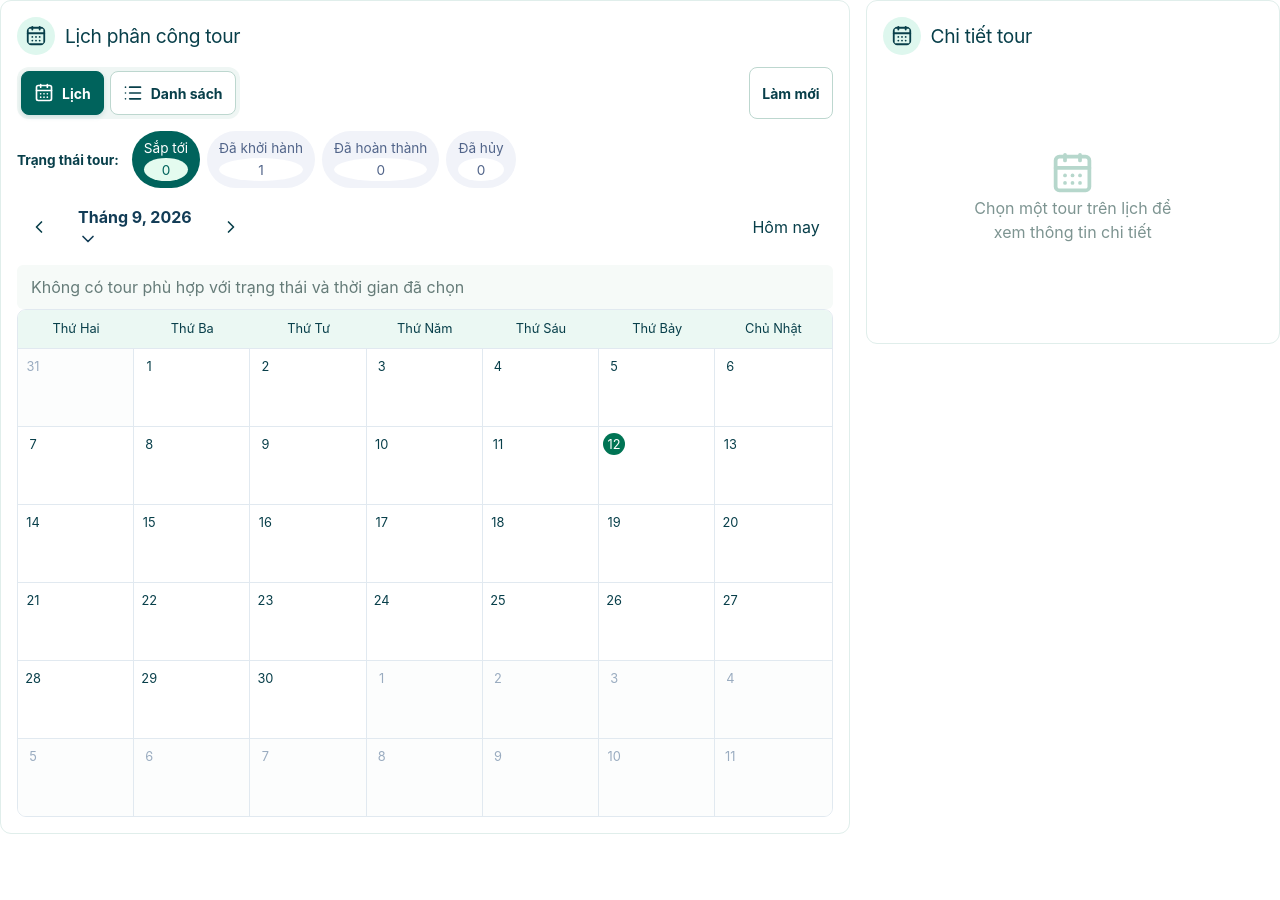
Scenario: UC-GUI02 month calendar › uses Vietnam month boundaries and clears detail when navigating
The image size is (1280, 900).
Click the button "Đã khởi hành 1": (261, 160) 207,131 -> 315,188
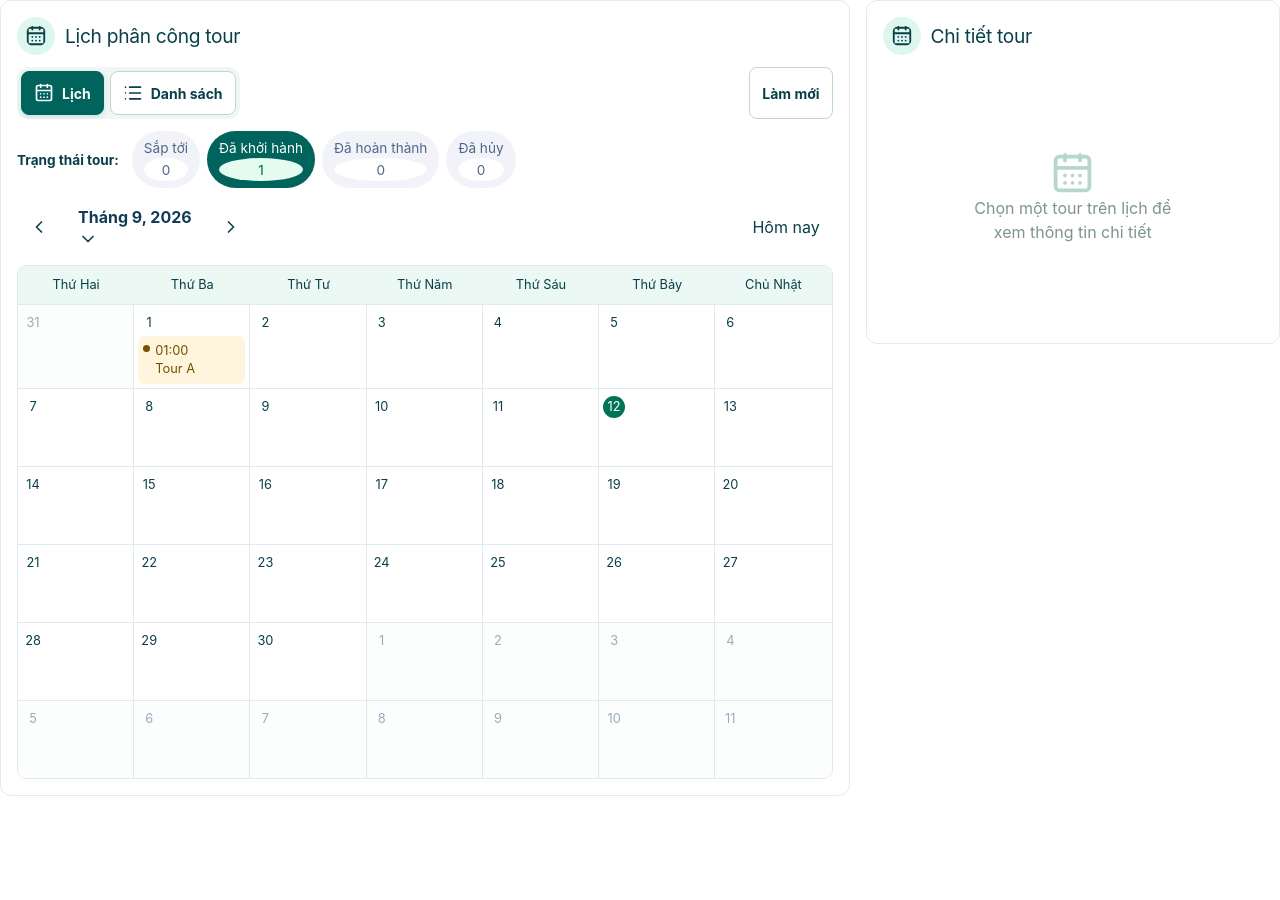
Click the button "01:00 Tour A": (192, 360) 138,336 -> 245,384
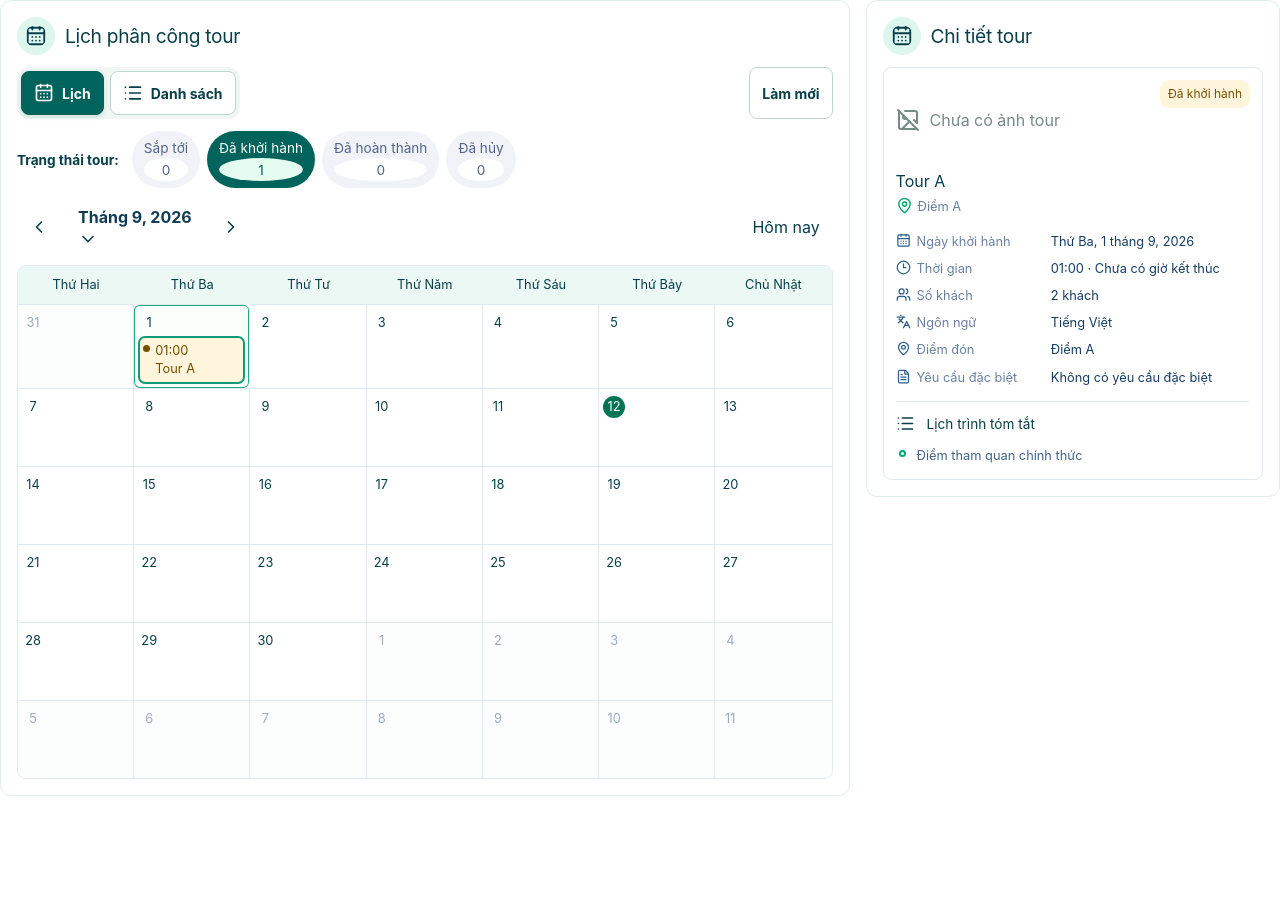
Result: the text "Điểm tham quan chính thức" is shown at 917,446 -> 1083,467
Click the button named "Tháng trước": (39, 227) 17,208 -> 61,246
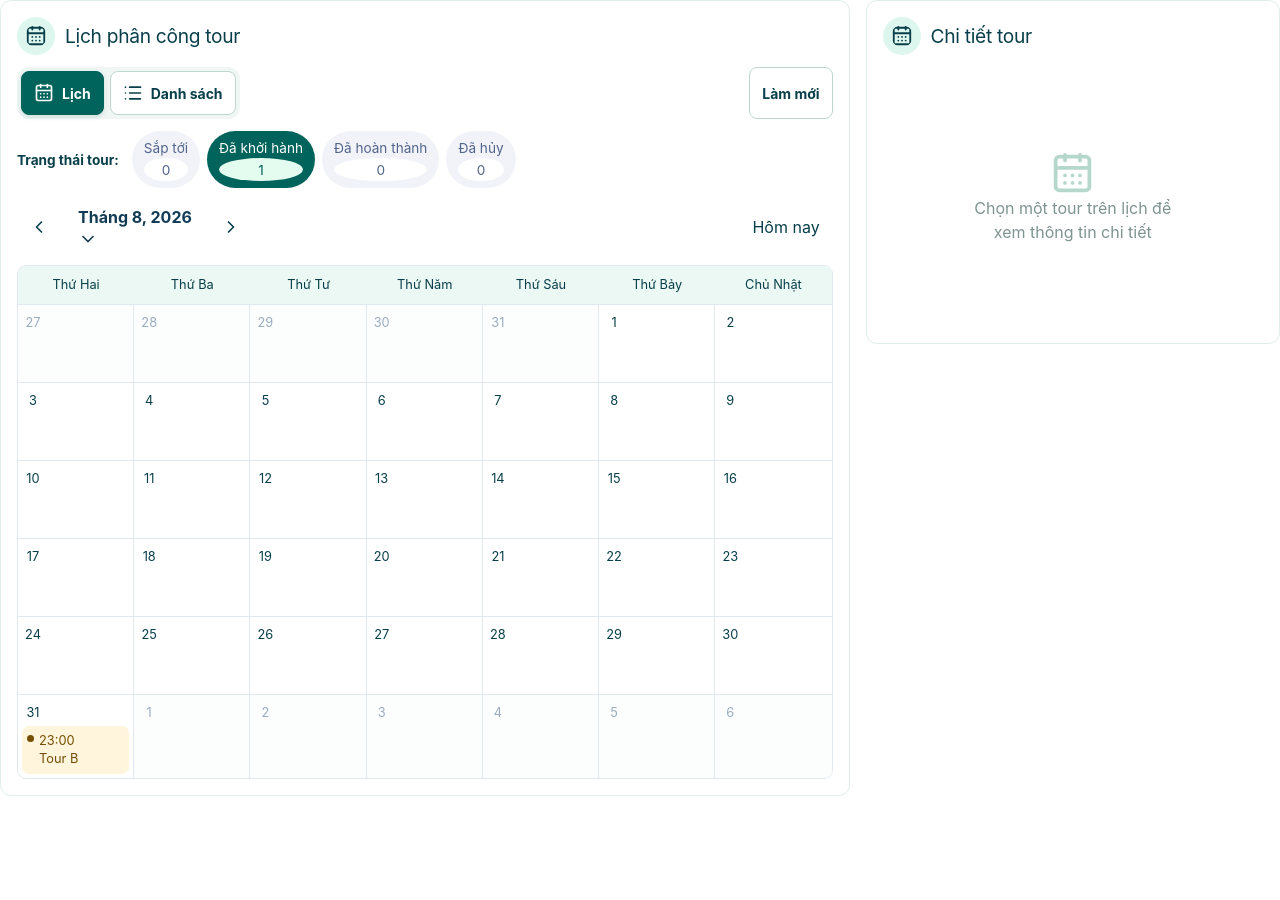
Result: the text "Điểm tham quan chính thức" is gone
Result: the button "23:00 Tour B" is shown at 22,726 -> 129,774
